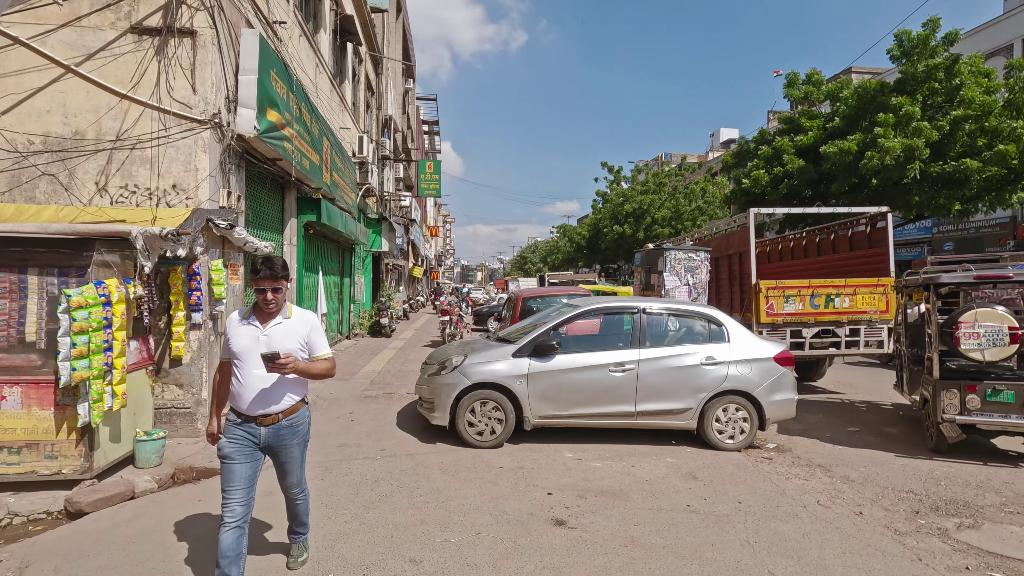dustbin: (133, 429, 167, 470)
